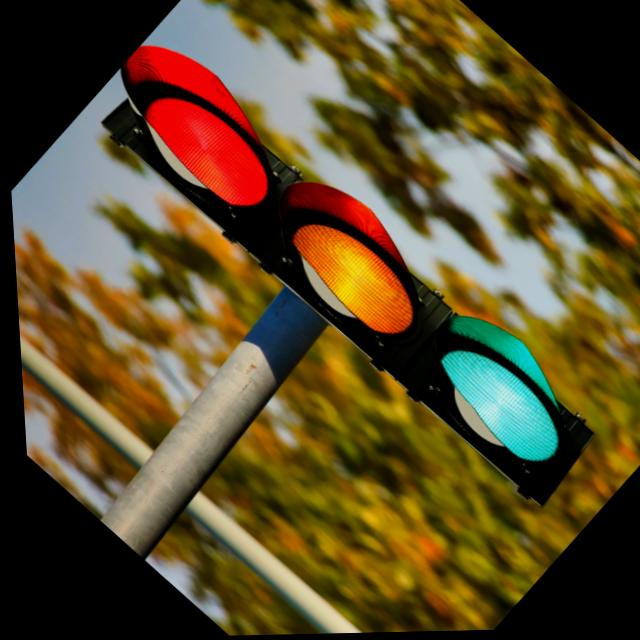Hijau: (418, 329, 576, 481)
Kuning: (273, 200, 431, 351)
Merah: (126, 72, 286, 225)
